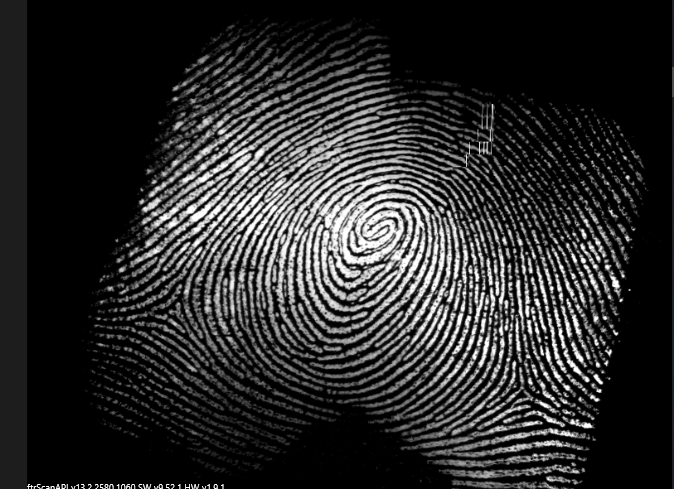nucelo: (348, 208, 404, 249)
verticilo: (146, 288, 198, 332), (501, 377, 541, 409)
